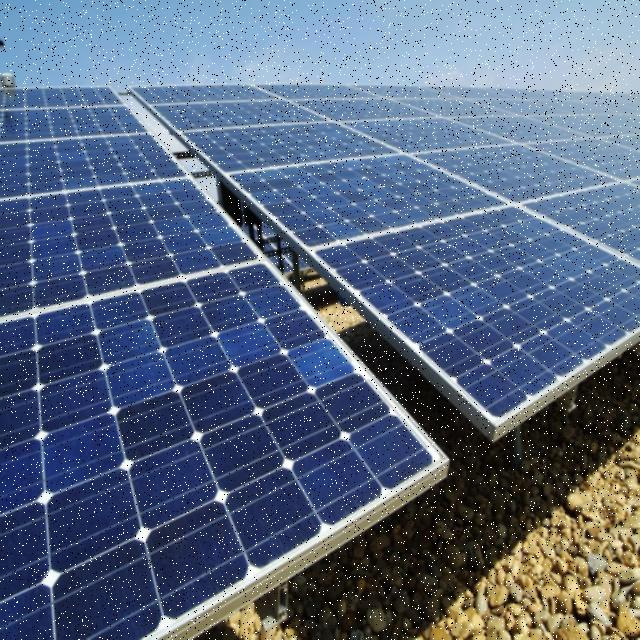clean: (1, 92, 420, 634), (142, 87, 632, 416)
